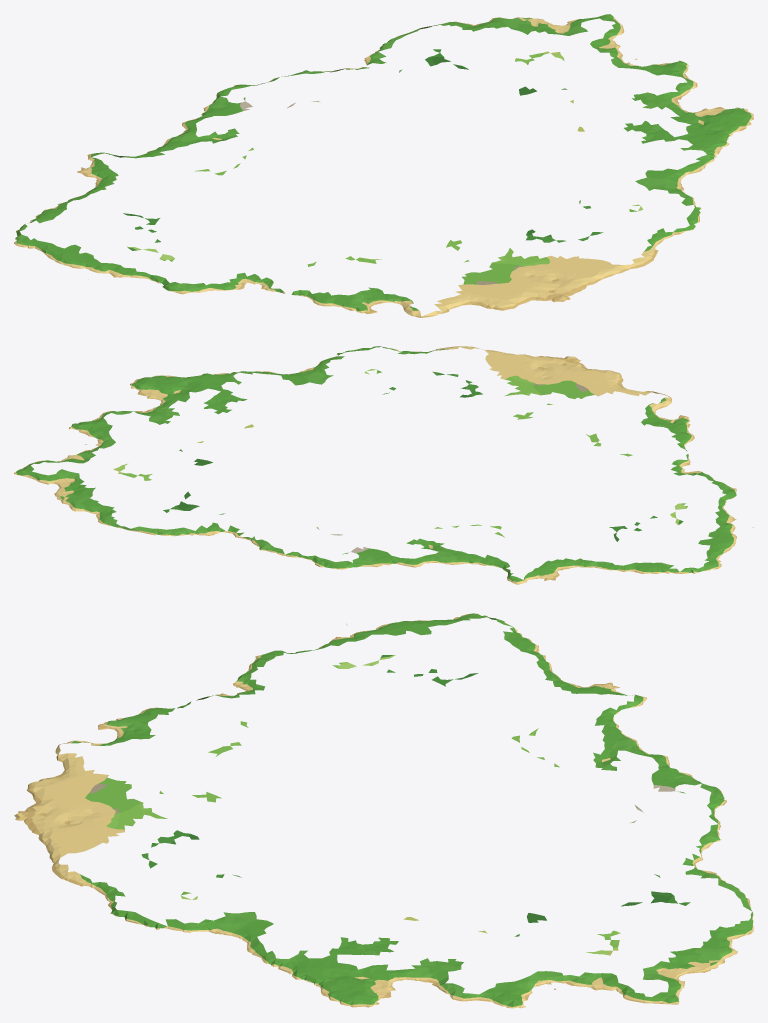
The model's file is Isl-rocky6-Ground.fbx.
3 renders of one model, top to bottom at view 1: azimuth 30°, elevation 25°; view 2: azimuth 150°, elevation 25°; view 3: azimuth 270°, elevation 25°, orthographic. The views are drawn at different scales.
Visible parts, largest first — view 1: Isl-rocky6-Ground-c21, Isl-rocky6-Ground-c11, Isl-rocky6-Ground-c22, Isl-rocky6-Ground-c12, Isl-rocky6-Ground-c02, Isl-rocky6-Ground-c01; view 2: Isl-rocky6-Ground-c21, Isl-rocky6-Ground-c11, Isl-rocky6-Ground-c22, Isl-rocky6-Ground-c12, Isl-rocky6-Ground-c02; view 3: Isl-rocky6-Ground-c21, Isl-rocky6-Ground-c22, Isl-rocky6-Ground-c11, Isl-rocky6-Ground-c12, Isl-rocky6-Ground-c32.
Boxes of the visible parts, x1,y1,x2,y2 form: Isl-rocky6-Ground-c21: (505, 103, 748, 301); Isl-rocky6-Ground-c11: (68, 229, 563, 317); Isl-rocky6-Ground-c22: (267, 17, 695, 108); Isl-rocky6-Ground-c12: (30, 83, 295, 248); Isl-rocky6-Ground-c02: (14, 222, 73, 257); Isl-rocky6-Ground-c01: (49, 250, 100, 279); Isl-rocky6-Ground-c21: (137, 346, 573, 428); Isl-rocky6-Ground-c11: (513, 356, 736, 543); Isl-rocky6-Ground-c22: (23, 408, 319, 557); Isl-rocky6-Ground-c12: (301, 524, 709, 584); Isl-rocky6-Ground-c02: (672, 542, 728, 573); Isl-rocky6-Ground-c21: (14, 811, 422, 998); Isl-rocky6-Ground-c22: (419, 814, 753, 999); Isl-rocky6-Ground-c11: (17, 628, 423, 814); Isl-rocky6-Ground-c12: (421, 627, 726, 815); Isl-rocky6-Ground-c32: (451, 992, 679, 1008).
Size of the model in its own units: 114 by 0.49 by 89.98.
